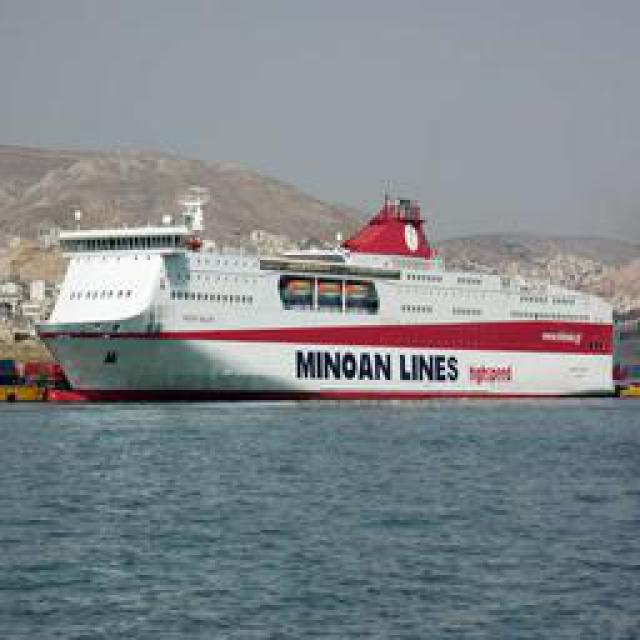Ship: (23, 194, 621, 407)
